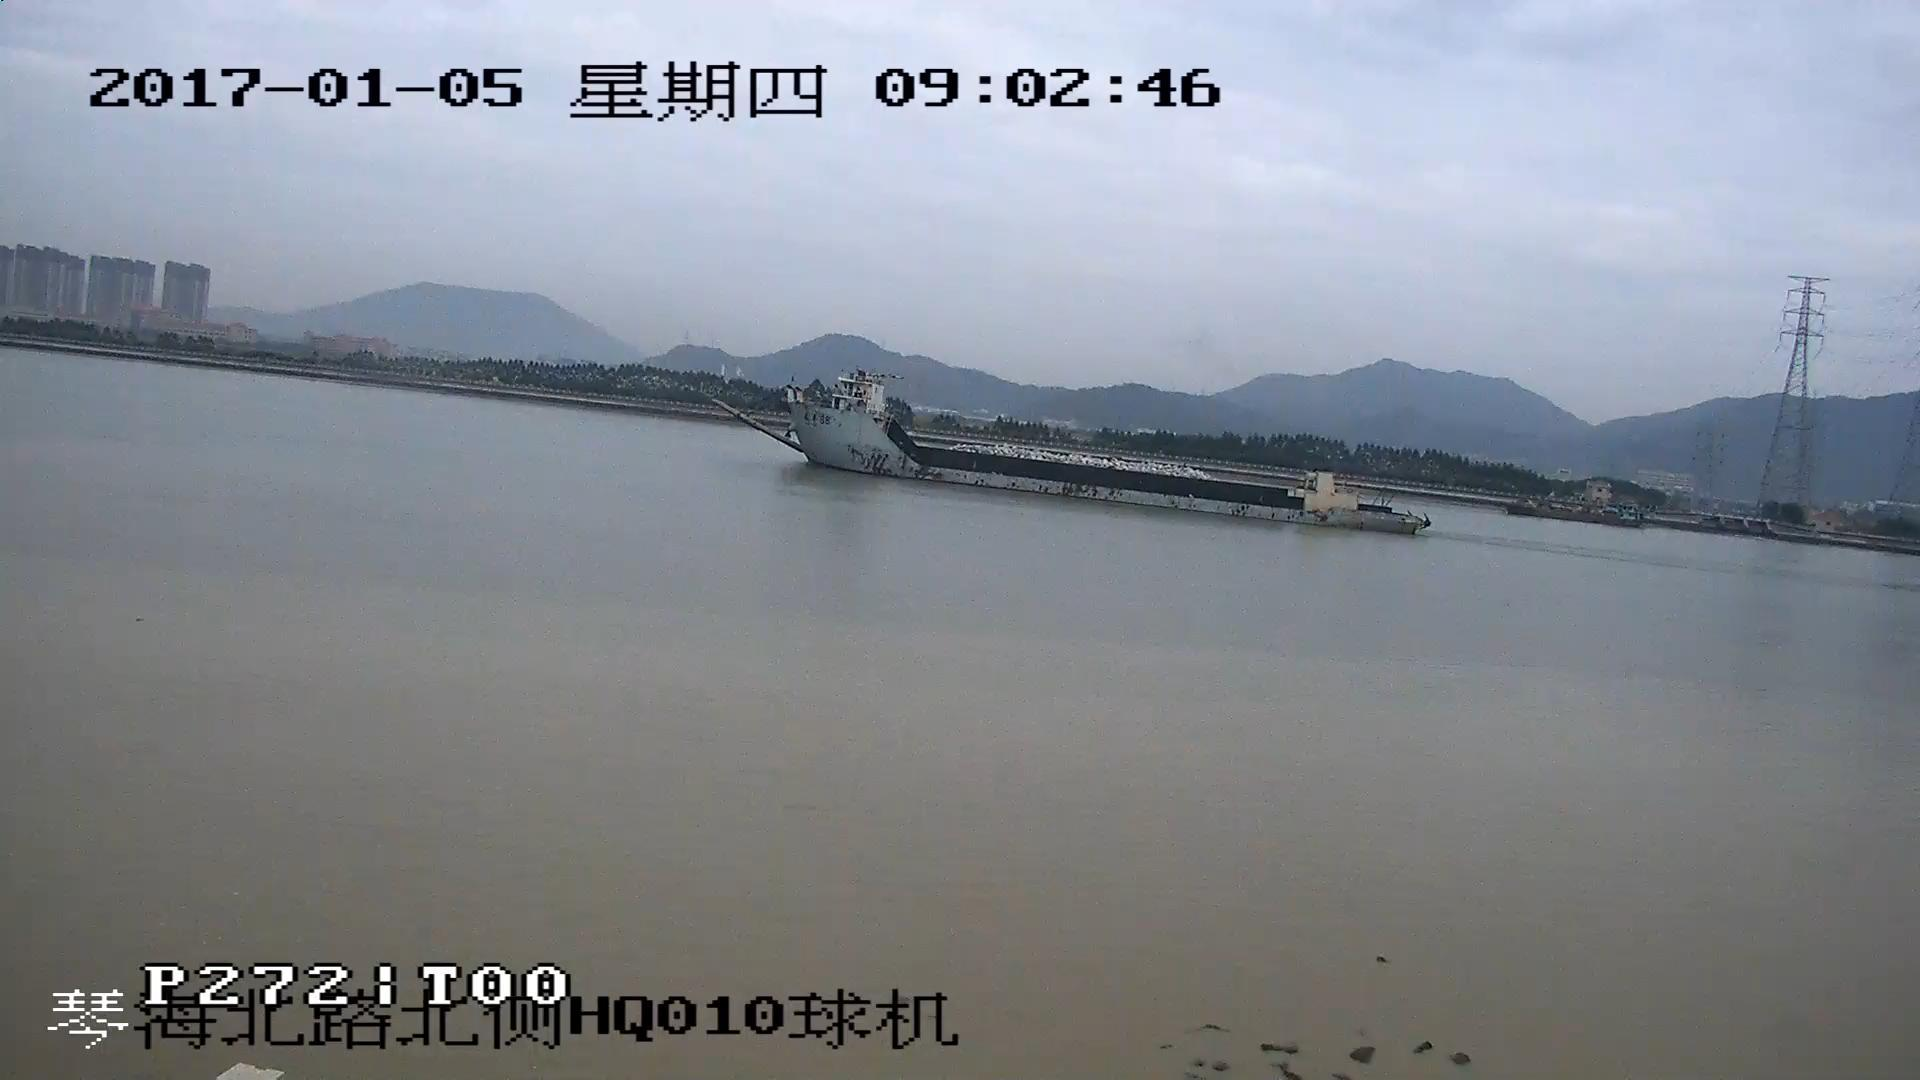Ship: (709, 373, 1419, 539)
